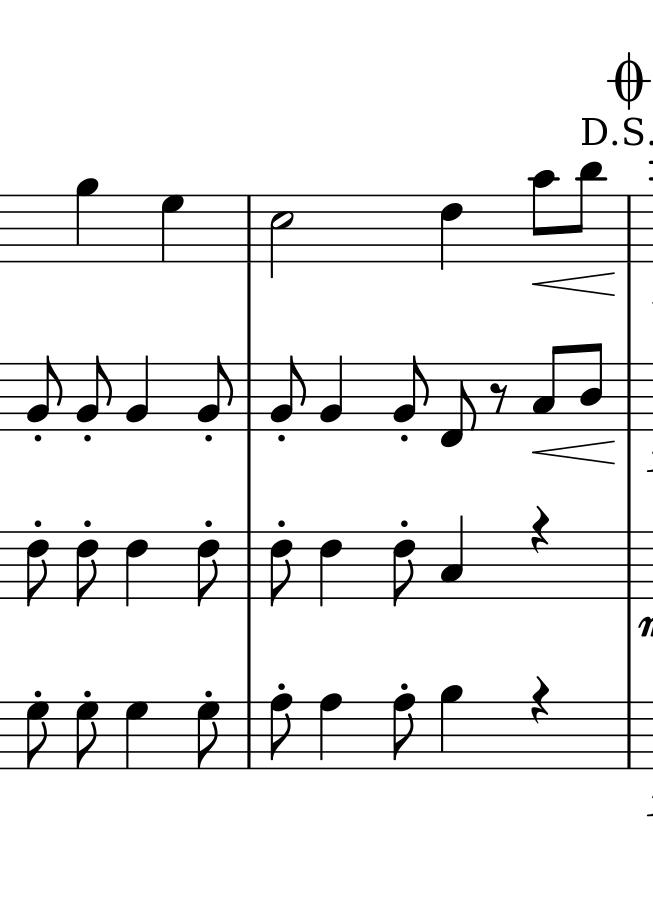2_5: (269, 194, 294, 281)
4_2: (125, 352, 152, 433), (319, 354, 346, 433)
4_3: (440, 515, 467, 601)
4_6: (316, 530, 345, 606), (123, 530, 149, 610), (439, 193, 462, 273)
4_7: (123, 700, 150, 769), (159, 193, 185, 263)
4_8: (318, 692, 346, 769)
4_9: (438, 684, 467, 773), (75, 177, 100, 264)
8_-1: (440, 362, 477, 450)
8_10: (531, 169, 558, 265)
8_11: (568, 161, 603, 266)
8_2: (390, 355, 430, 433), (74, 354, 114, 432), (25, 355, 65, 431), (194, 355, 234, 431), (269, 355, 307, 431)
8_3: (532, 344, 563, 432)
8_4: (576, 342, 603, 431)
8_6: (265, 530, 295, 608), (390, 529, 417, 609), (72, 529, 99, 609), (25, 531, 50, 609), (196, 529, 221, 607)
8_7: (22, 701, 51, 770), (75, 700, 100, 770), (195, 700, 219, 771)
8_8: (267, 693, 295, 770), (392, 691, 417, 771)
Coda: (606, 52, 652, 111)
Crescendo_hairpin: (532, 272, 617, 300), (534, 440, 615, 468)
Rests4: (525, 675, 551, 726), (529, 504, 551, 553)
Rests8: (486, 380, 506, 416)
Single_barline: (239, 530, 258, 600), (240, 196, 259, 262), (239, 362, 257, 431), (240, 701, 257, 769), (620, 531, 637, 599), (621, 701, 637, 769), (621, 195, 636, 261), (622, 362, 636, 431)
